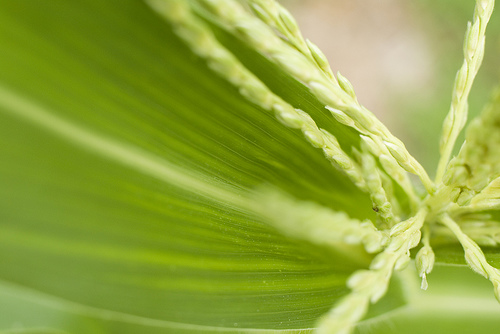corn: (141, 0, 499, 333)
